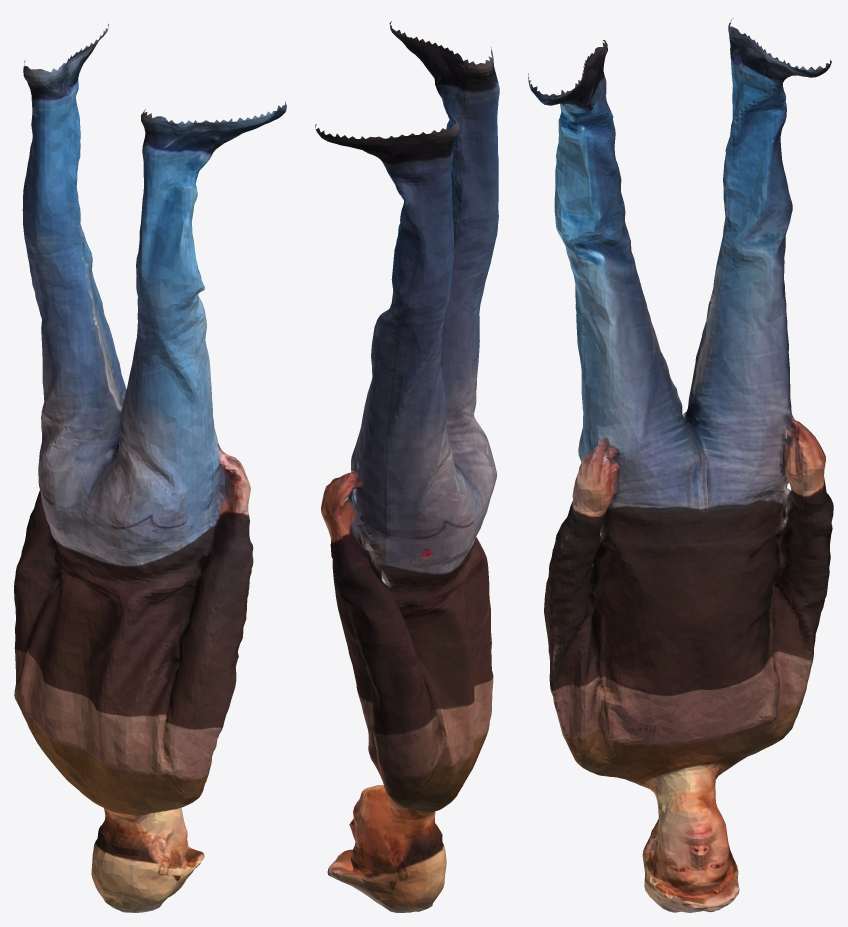
Rendered from 20191201-set04-zhao.gltf.
3 renders of one model, left to right at view 1: azimuth 30°, elevation 25°; view 2: azimuth 150°, elevation 25°; view 3: azimuth 270°, elevation 25°, orthographic. The views are drawn at different scales.
Visible parts, largest first — view 1: Node; view 2: Node; view 3: Node.
Boxes of the visible parts, x1,y1,x2,y2 form: Node: (14, 24, 286, 912); Node: (315, 21, 499, 912); Node: (528, 18, 833, 912).
Bounding box in the file's own units: 0.3734 × 1.84 × 0.5931.
Materials: 1 (1 with a texture image).
